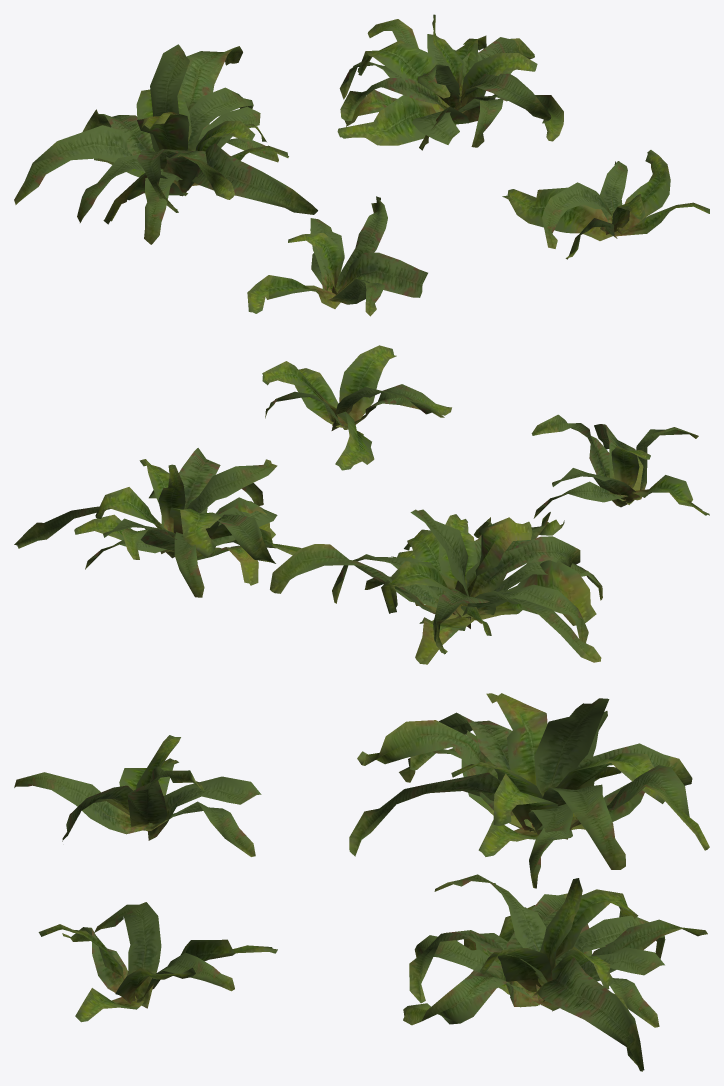
Rendered from fern_02.glb.
3 views of the same model, one above another, from view 1: azimuth 30°, elevation 25°; view 2: azimuth 150°, elevation 25°; view 3: azimuth 270°, elevation 25° (orthographic). The views are drawn at different scales.
Parts seen in each view (by area): view 1: fern_02_b; view 2: fern_02_b; view 3: fern_02_b.
Boxes of the visible parts, box(x1,y1,x2,y2) form: fern_02_b: box(14, 14, 709, 316); fern_02_b: box(14, 345, 709, 664); fern_02_b: box(14, 693, 709, 1071).
Size of the model in its own units: 1.97 by 0.4277 by 1.72.
Materials: 1 (1 with a texture image).
